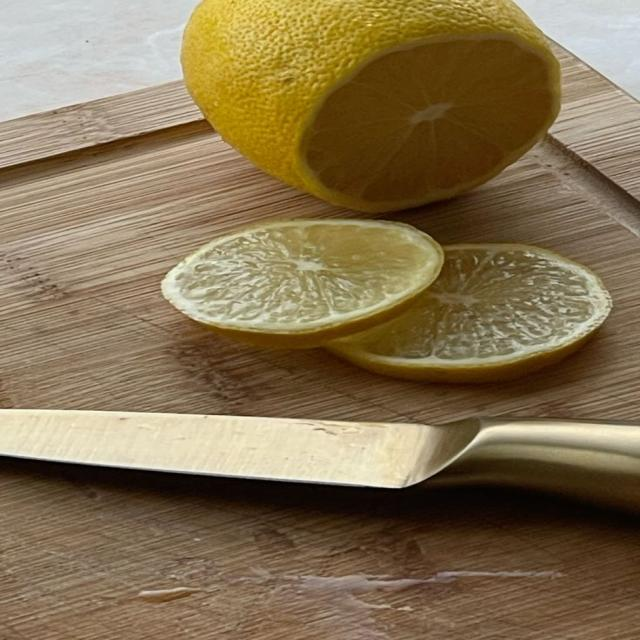lemon: (182, 0, 559, 212), (329, 244, 611, 382), (162, 220, 443, 347)
